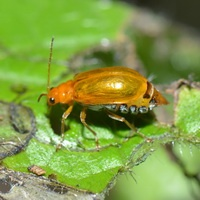insect: (38, 67, 168, 150)
